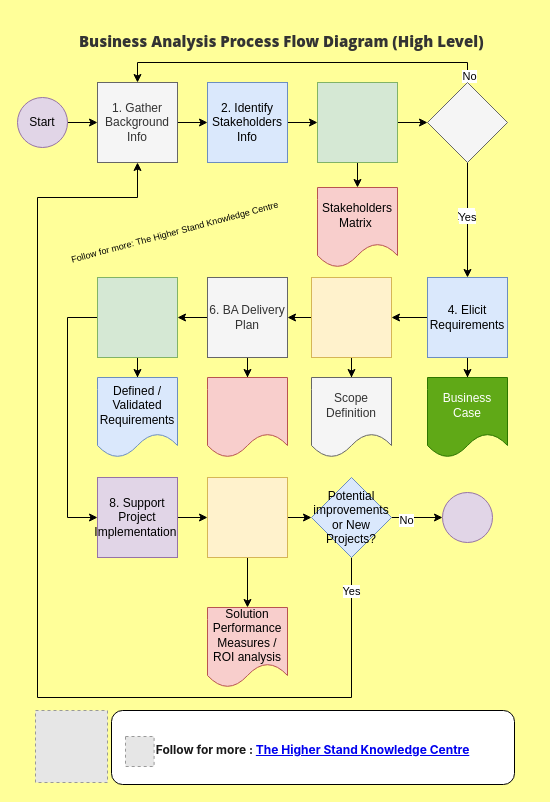
The diagram is 550 pixels wide and 802 high, and some of its shapes have lost their labels. Grey dashed boxes stand in for pictures. Here are the shapes that lost their labels. From the top down, the centre of each, then its label:
At (x=357, y=122): "3. Discover Business Objecttves".
At (x=467, y=122): "Meets Business Objectives?".
At (x=137, y=317): "7. Define Requirements".
At (x=351, y=317): "5. Scope Definition".
At (x=247, y=417): "Governance/ Requirement Delivery Project Plan".
At (x=247, y=517): "9. Measure Solution Performance / value add".
At (x=467, y=517): "End".
